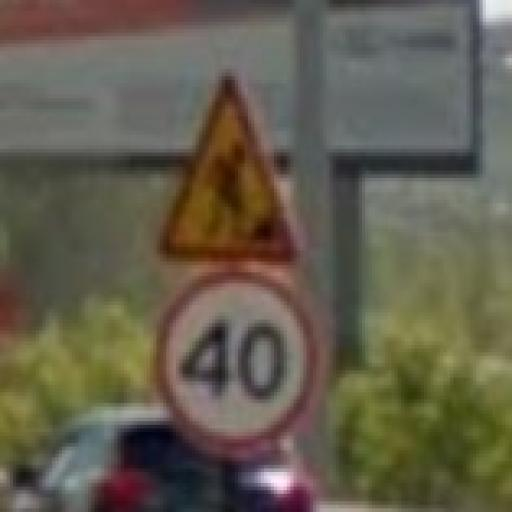traffic_sign: (154, 266, 321, 459), (158, 70, 305, 266)
